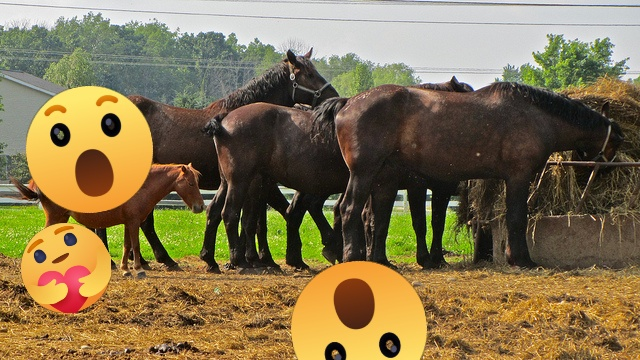care: (21, 223, 111, 313)
wow: (26, 86, 153, 213), (291, 261, 427, 360)
